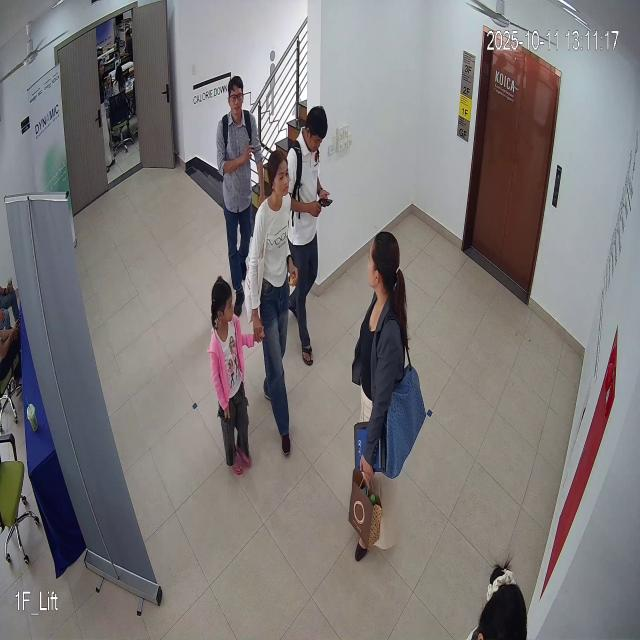face: (263, 142, 299, 205), (227, 71, 244, 117)
